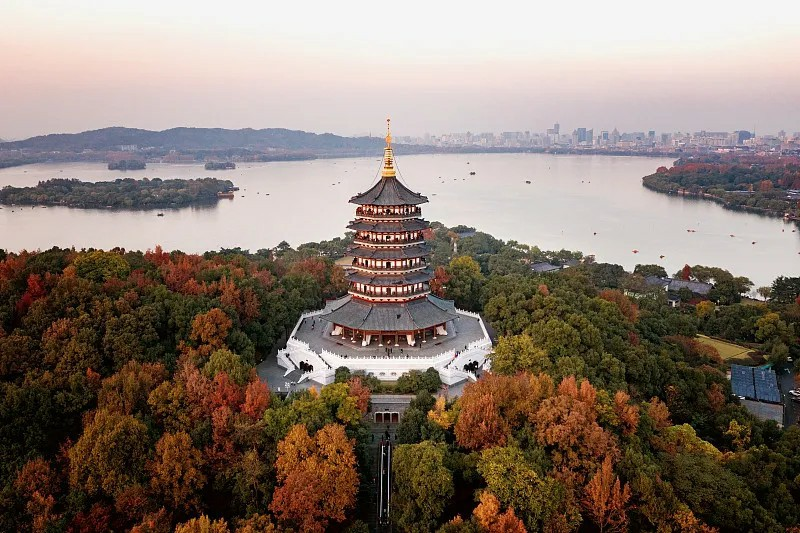Leifeng: (323, 119, 455, 350)
